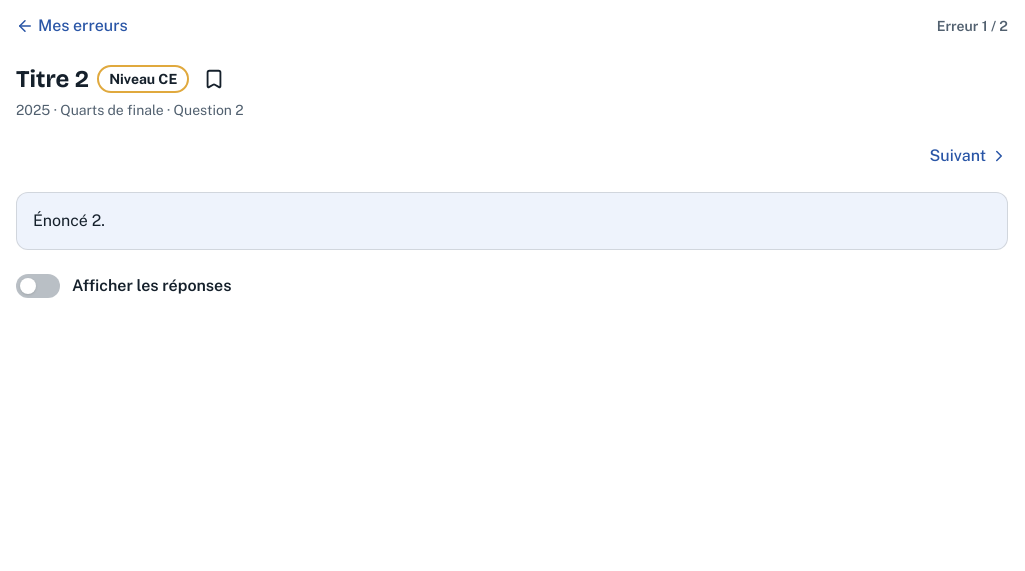
Test: ListQuestionPage (Story 4.5) › mistakes list: position label, and consulting never changes the mistakes list
Expected: the text "Énoncé 2." is shown, [33,211,105,230]
Expected: the text "Erreur 1 / 2" is shown, [937,16,1008,36]
Click the checkbox labelled "Afficher les réponses".
click(124, 286)  # box [16,274,232,298]
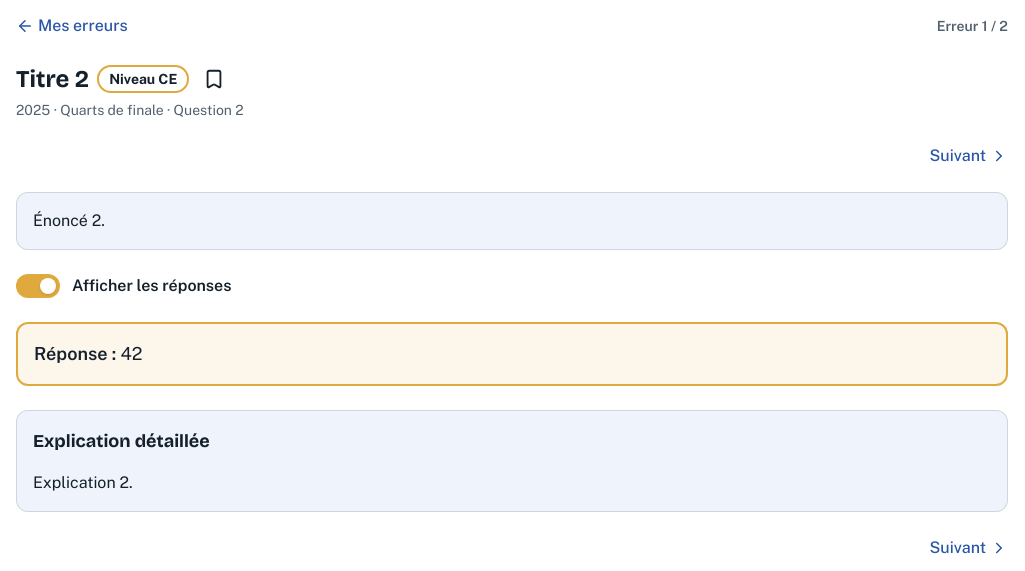
Click the 1st link "Suivant".
click(969, 156)  # box [930,144,1008,168]
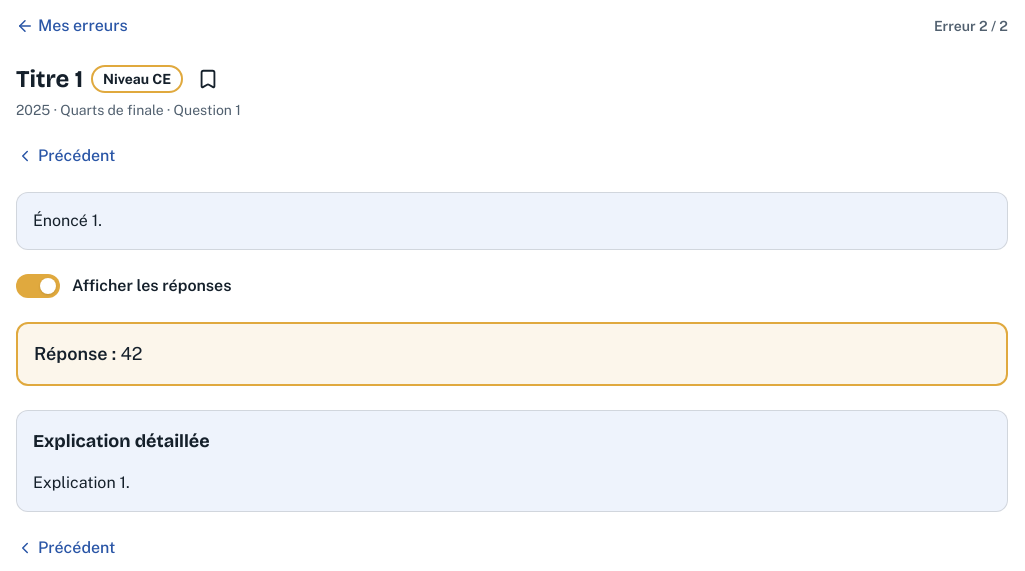
Expected: the text "Énoncé 1." is shown, [33,211,102,230]
